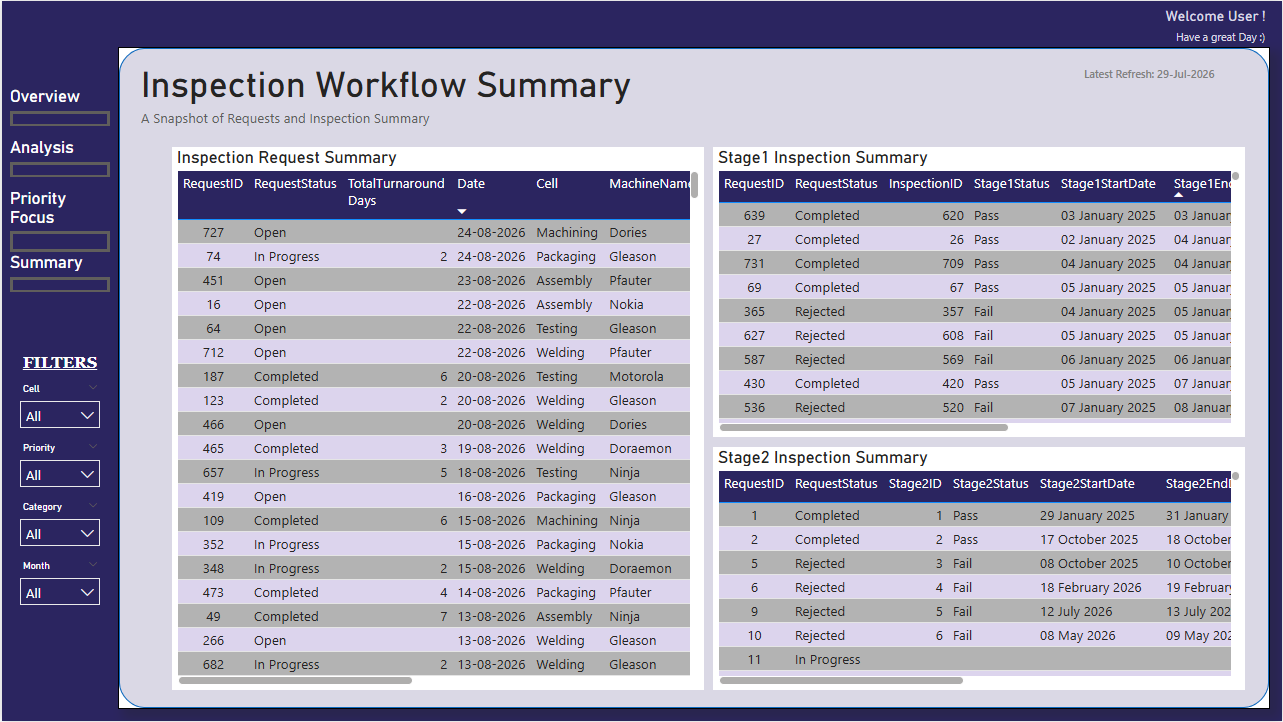

What the dashboard file says about the page in this screenshot:
{"tool":"powerbi","page":{"name":"Summary","canvas":[1280,720],"ordinal":3},"visuals":[{"type":"shape","box":[116,46,1152,662],"z":0},{"type":"actionButton","title":"Overview","box":[8,85,100,40],"z":1000},{"type":"actionButton","title":"Analysis","box":[8,136,100,40],"z":2000},{"type":"actionButton","title":"Priority Focus","box":[7.8,186.7,100,64.4],"z":3000},{"type":"actionButton","title":"Summary","box":[7.8,251.1,100,40],"z":4000},{"type":"textbox","box":[8,347,100,281],"z":5000},{"type":"slicer","fields":{"Values":["inspection_master.Cell"]},"box":[8,377,100,59],"z":6000},{"type":"slicer","fields":{"Values":["inspection_master.Priority"]},"box":[8,436,100,59],"z":7000},{"type":"slicer","fields":{"Values":["inspection_master.RequestCategory"]},"box":[8,495,100,59],"z":8000},{"type":"slicer","fields":{"Values":["inspection_master.Month"]},"box":[8,554,100,59],"z":9000},{"type":"textbox","title":"Inspection Workflow Summary","box":[134,62,537,65],"z":10000},{"type":"cardVisual","fields":{"Data":["inspection_master.Last Refresh"]},"box":[1052,47,191,48],"z":11000},{"type":"textbox","title":"Welcome User ! ","box":[968,7,300,39],"z":12000},{"type":"tableEx","title":"Inspection Request Summary","fields":{"Values":["inspection_master.RequestID","inspection_master.RequestStatus","inspection_master.TotalTurnaroundDays","inspection_master.Date","inspection_master.Cell","inspection_master.MachineName","inspection_master.MachineNumber","inspection_master.MachineStatus","inspection_master.Priority","inspection_master.RequestCategory","inspection_master.RequestType","inspection_master.MachineIncharge"]},"box":[170.1,146.3,532.1,542.5],"z":13000},{"type":"tableEx","title":"Stage1 Inspection Summary","fields":{"Values":["inspection_master.RequestID","inspection_master.RequestStatus","inspection_master.InspectionID","inspection_master.Stage1Status","inspection_master.Stage1StartDate","inspection_master.Stage1EndDate","inspection_master.Stage1Duration","inspection_master.Stage1Remarks","inspection_master.Stage1InspectedBy"]},"box":[710.5,146.3,532.1,289.4],"z":14000},{"type":"tableEx","title":"Stage2 Inspection Summary","fields":{"Values":["inspection_master.RequestID","inspection_master.RequestStatus","inspection_master.Stage2ID","inspection_master.Stage2Status","inspection_master.Stage2StartDate","inspection_master.Stage2EndDate","inspection_master.Stage2Duration","inspection_master.Stage2Remarks","inspection_master.Stage2InspectedBy","inspection_master.Stage2FlagRequested"]},"box":[710.5,446,532.1,242.7],"z":15000}]}

Visuals, with their boxes on the page's 1280x720 design canvas (x1, y1, x2, y2). These are canvas units, not pixel positions in the 1283x722 screenshot, which may show the page scaled, cropped or inside an application window:
shape: <region>116, 46, 1268, 708</region>
"Overview" actionButton: <region>8, 85, 108, 125</region>
"Analysis" actionButton: <region>8, 136, 108, 176</region>
"Priority Focus" actionButton: <region>8, 187, 108, 251</region>
"Summary" actionButton: <region>8, 251, 108, 291</region>
textbox: <region>8, 347, 108, 628</region>
slicer - inspection_master.Cell: <region>8, 377, 108, 436</region>
slicer - inspection_master.Priority: <region>8, 436, 108, 495</region>
slicer - inspection_master.RequestCategory: <region>8, 495, 108, 554</region>
slicer - inspection_master.Month: <region>8, 554, 108, 613</region>
"Inspection Workflow Summary" textbox: <region>134, 62, 671, 127</region>
cardVisual - inspection_master.Last Refresh: <region>1052, 47, 1243, 95</region>
"Welcome User ! " textbox: <region>968, 7, 1268, 46</region>
"Inspection Request Summary" tableEx: <region>170, 146, 702, 689</region>
"Stage1 Inspection Summary" tableEx: <region>710, 146, 1243, 436</region>
"Stage2 Inspection Summary" tableEx: <region>710, 446, 1243, 689</region>
